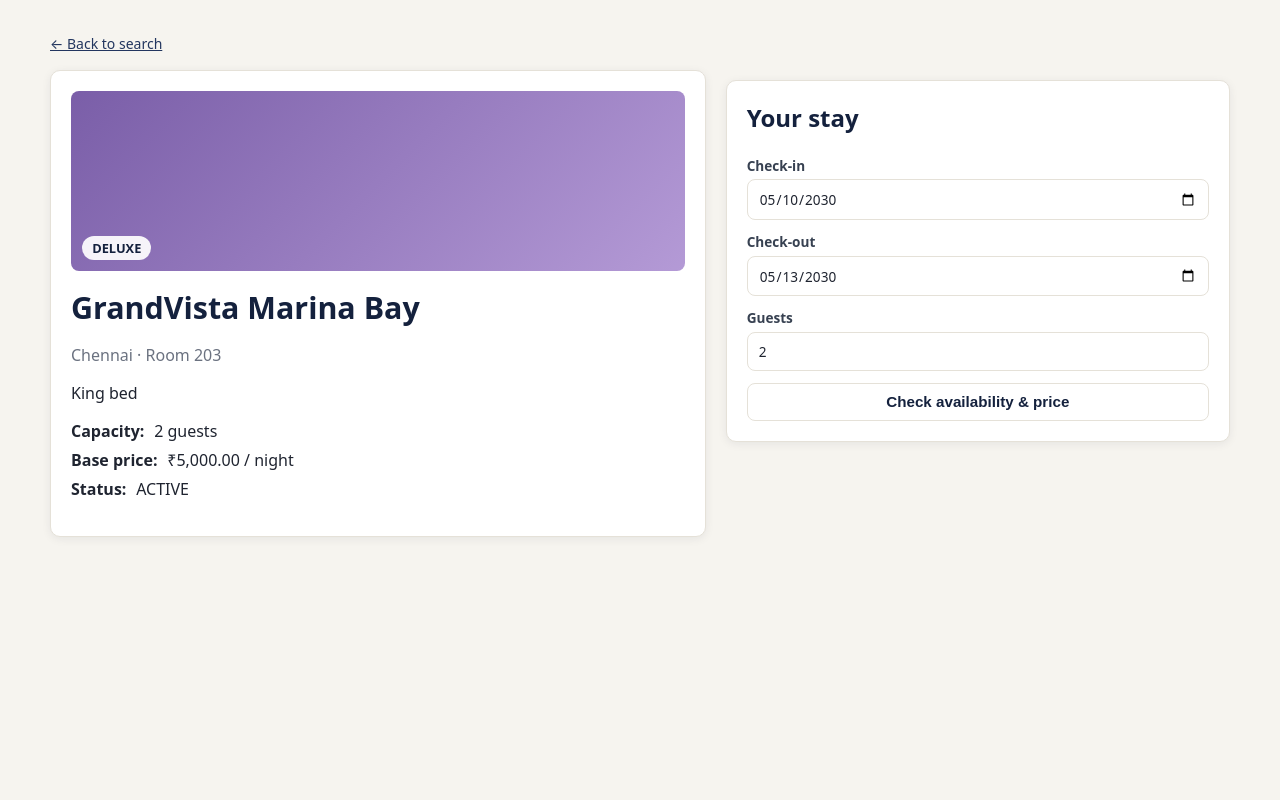
Scenario: RoomDetailsPage › checks availability and the dynamic price with the chosen dates, and explains the price
The width and height of the screenshot is (1280, 800).
expect the heading "GrandVista Marina Bay" is shown: met, box [71,287,420,328]
Step 1. Click the button "Check availability & price" → (978, 402), box [747,383,1209,421]
(page scrolled)
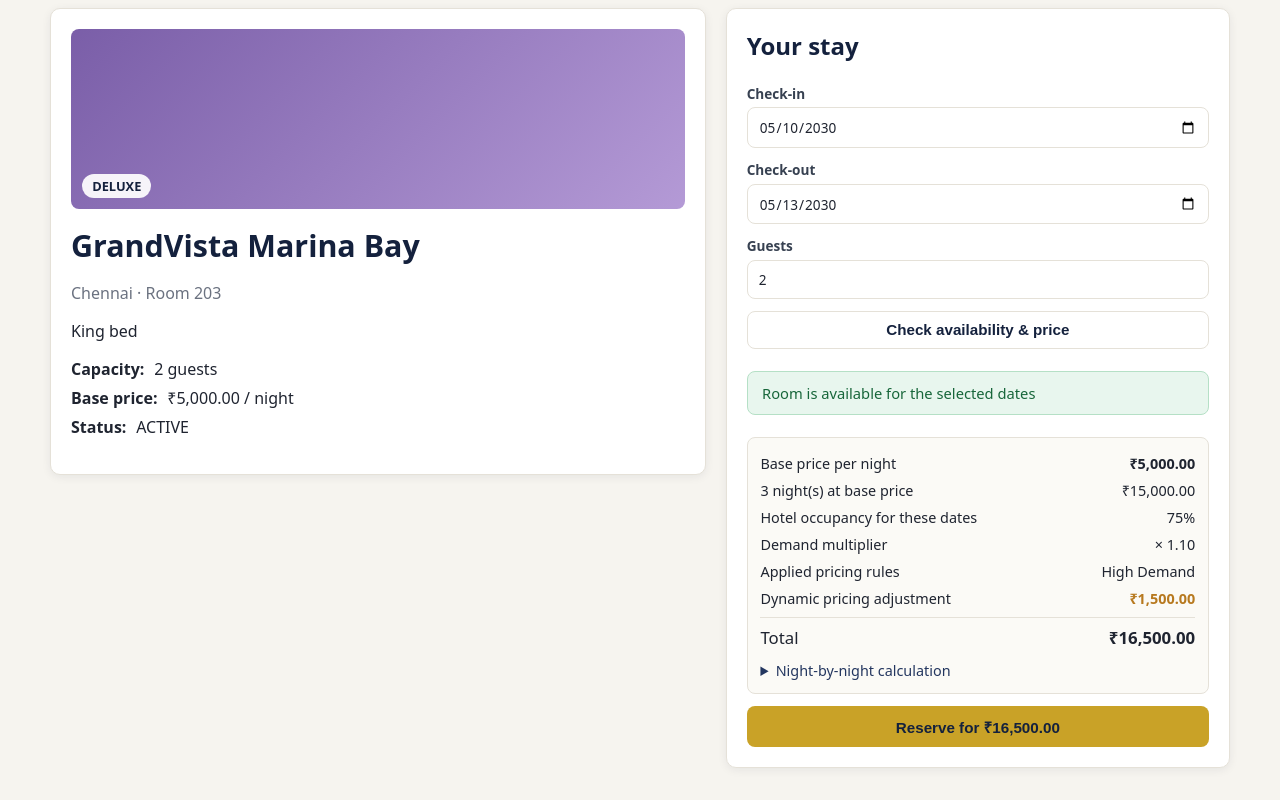
expect the text "Room is available for the selected dates" is shown: met, box [762,383,1036,403]
expect the text "High Demand" is shown: met, box [1101,562,1195,581]
expect the button "Reserve for ₹16,500.00" is shown: met, box [747,706,1209,747]
